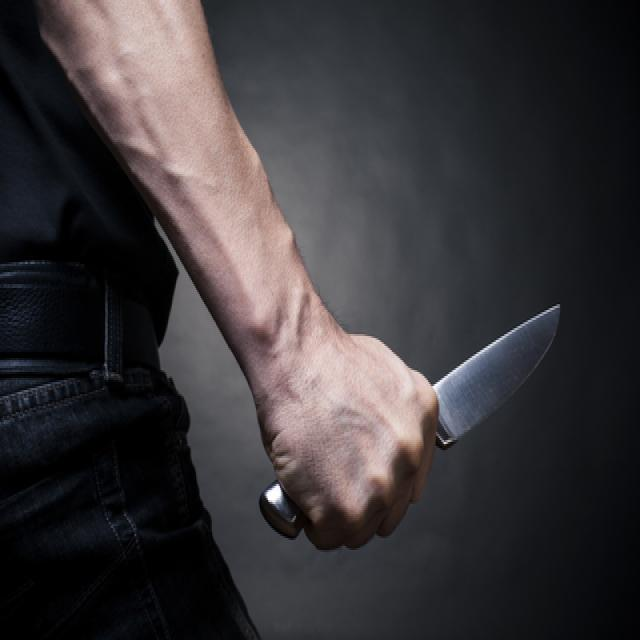knife: (258, 296, 578, 549)
